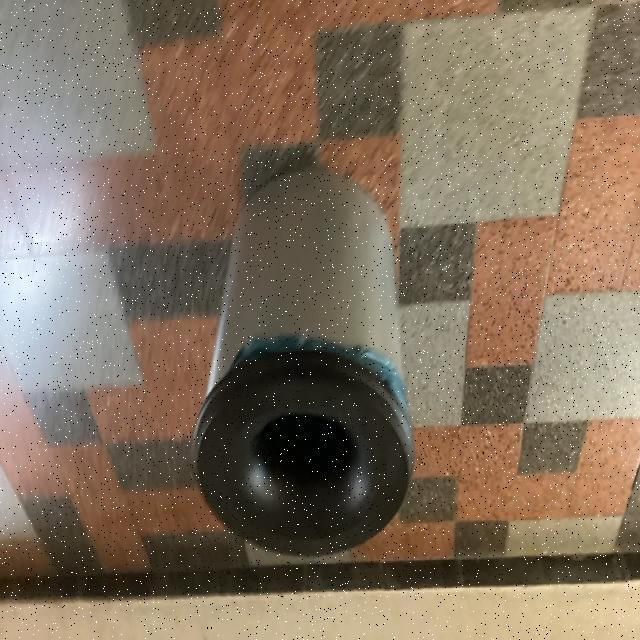garbage container: (136, 131, 452, 589)
